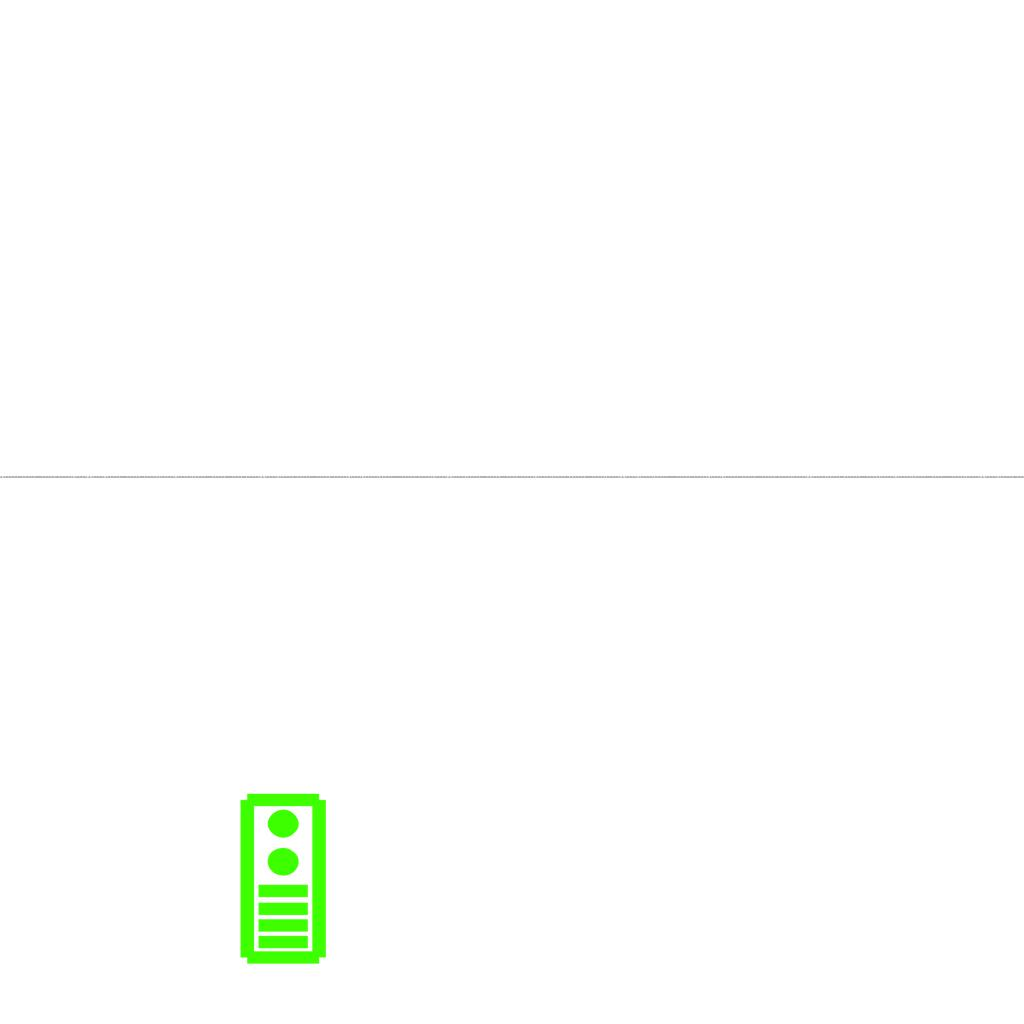Gegensprechanlage_mit_Video: (234, 790, 329, 966)
